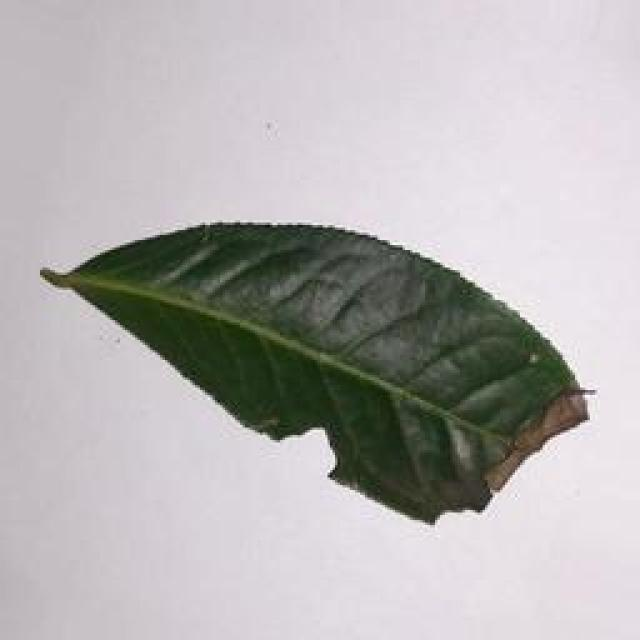Brown Blight: (33, 212, 596, 524)
